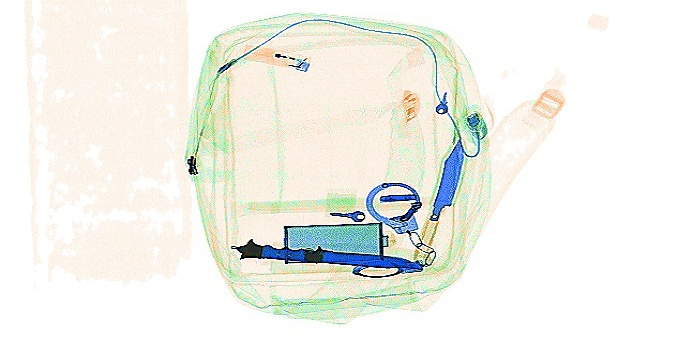handcuffs: (352, 176, 435, 279)
knife: (407, 139, 470, 266), (230, 236, 420, 274)
lighter: (236, 41, 312, 71)
zippooil: (280, 218, 391, 265)
